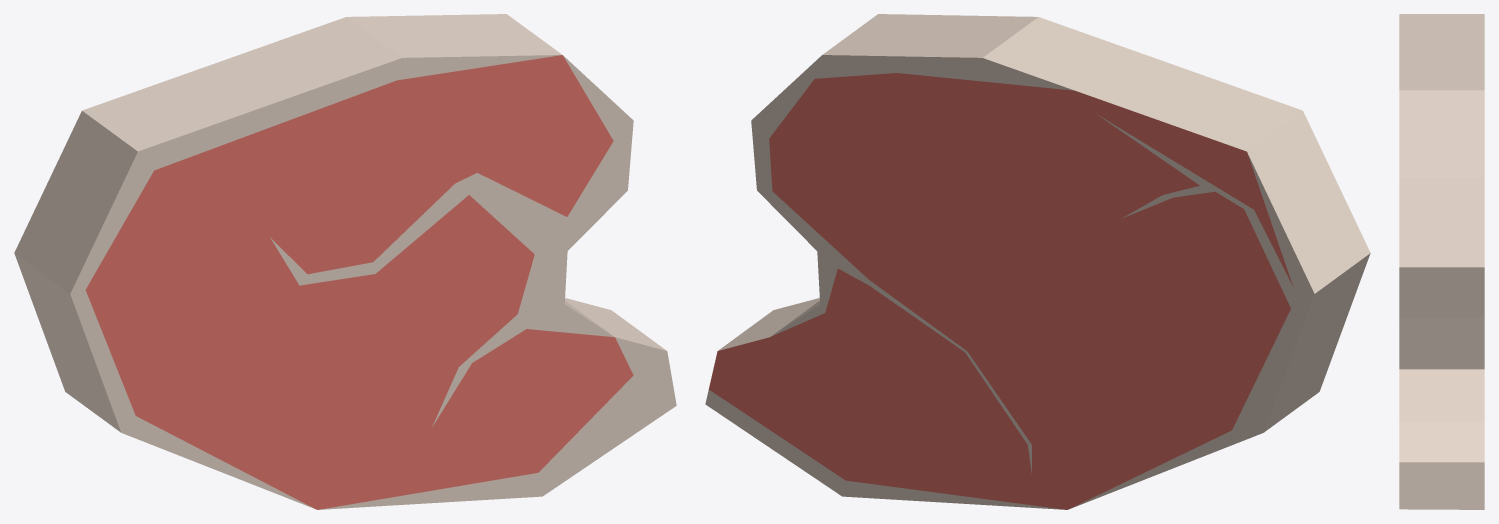
File: trimmed_meat.fbx
3 renders of one model, left to right at view 1: azimuth 30°, elevation 25°; view 2: azimuth 150°, elevation 25°; view 3: azimuth 270°, elevation 25°, orthographic. The views are drawn at different scales.
Visible parts, largest first — view 1: meat; view 2: meat; view 3: meat.
Part boxes in pixels (x1,y1,x2,y2): meat: (14,14,676,509); meat: (705,14,1370,509); meat: (1399,14,1484,509).
Size of the model in its own units: 62.82 by 46.59 by 10.
